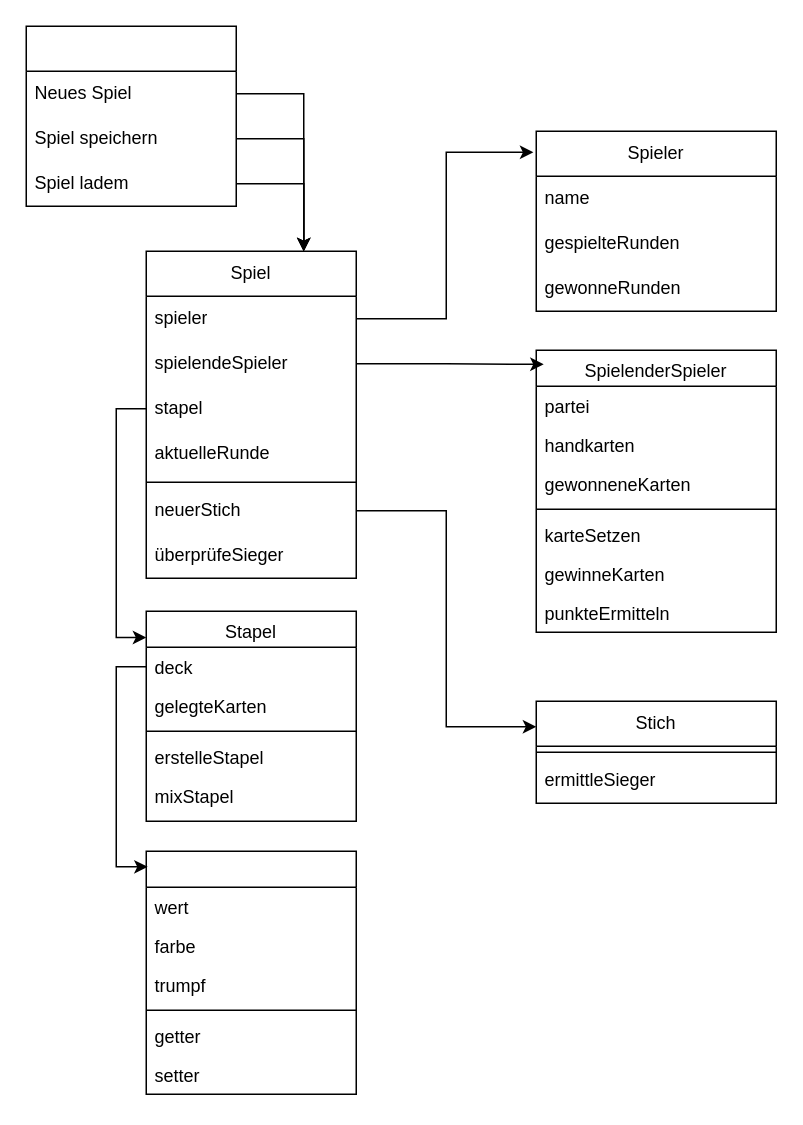
Image size: 803x1125. Some labels were removed from this diagram. Here are the shapes that lost their labels. From the top down, the box of each, then its label:
(25, 25, 236, 206): SpielVerwaltung
(145, 850, 356, 1094): Karten
